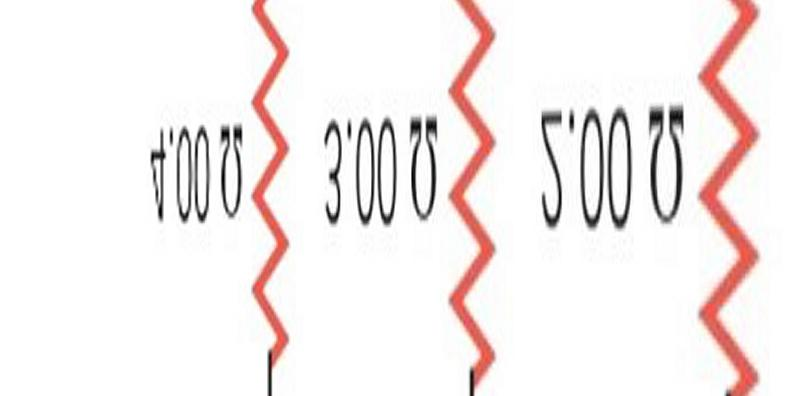resistor: (694, 2, 777, 391), (233, 10, 303, 388), (442, 5, 498, 384)
